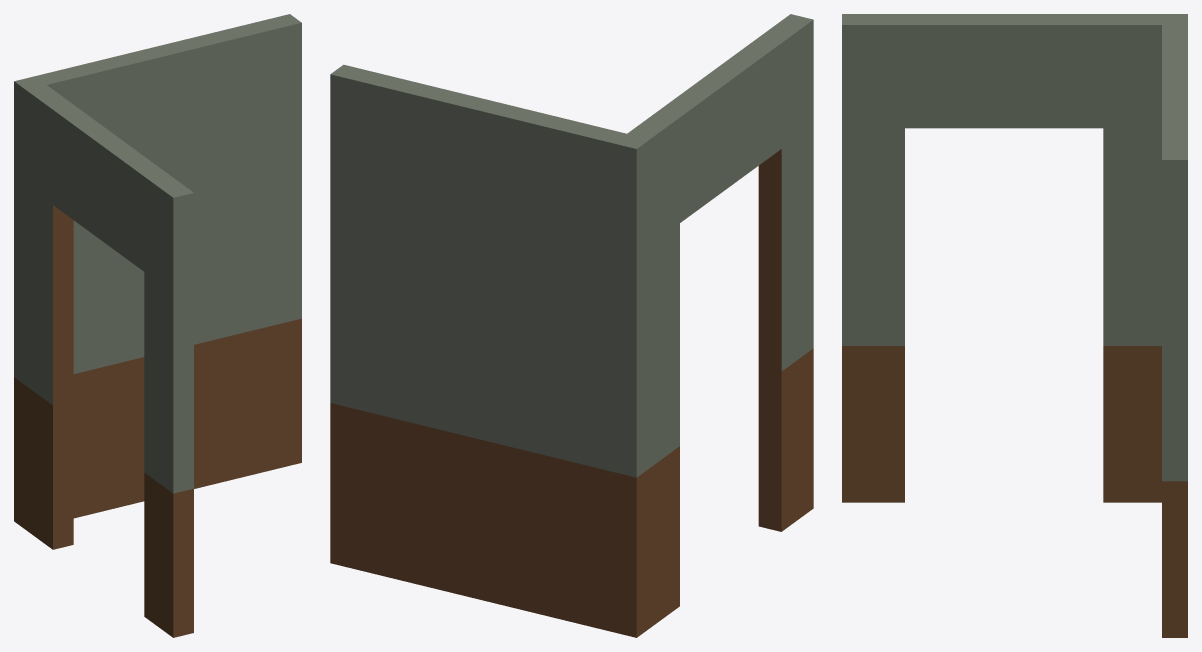
The model's file is Building_28.fbx.
3 renders of one model, left to right at view 1: azimuth 30°, elevation 25°; view 2: azimuth 150°, elevation 25°; view 3: azimuth 270°, elevation 25°, orthographic. The views are drawn at different scales.
Parts seen in each view (by area): view 1: Building_28; view 2: Building_28; view 3: Building_28.
Part boxes in pixels (<box>): Building_28: <box>14,14,301,637</box>; Building_28: <box>330,14,813,637</box>; Building_28: <box>842,14,1187,637</box>.
Size of the model in its own units: 162 by 247 by 162.
1 material, 1 textured.
